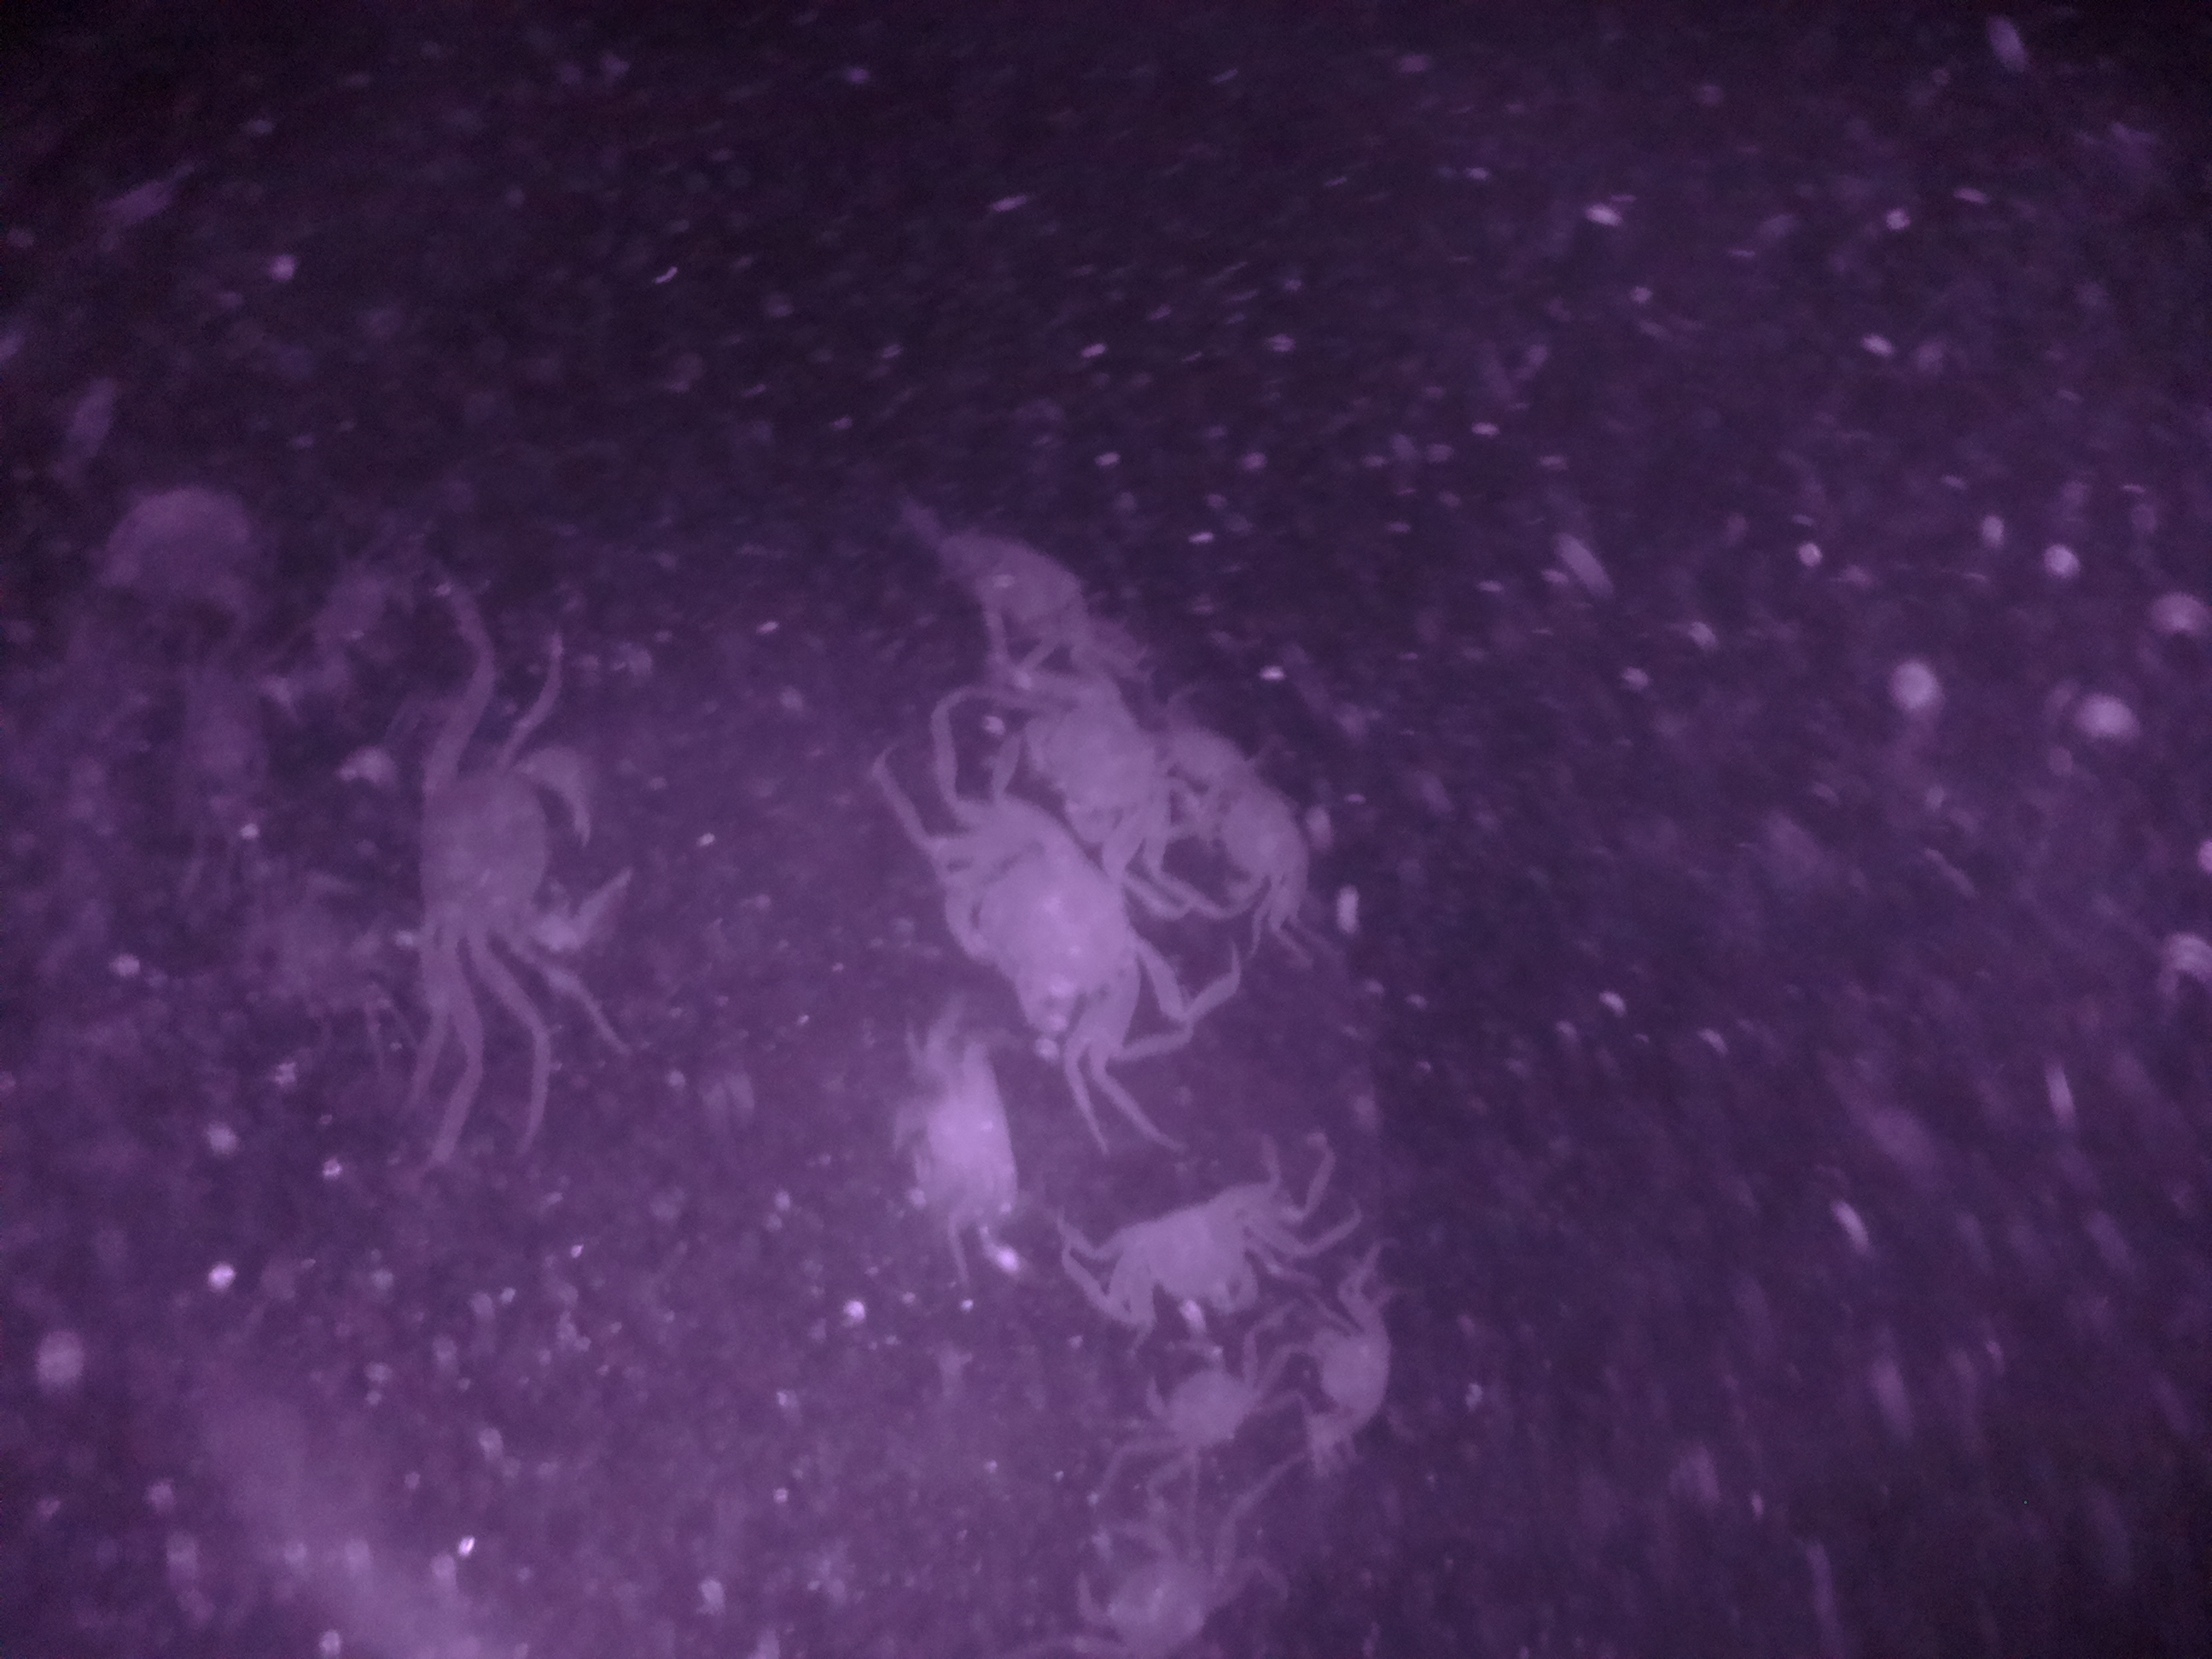Crab: (388, 718, 637, 1004), (918, 782, 1162, 1061), (1085, 1168, 1294, 1342), (1144, 1316, 1278, 1485)
